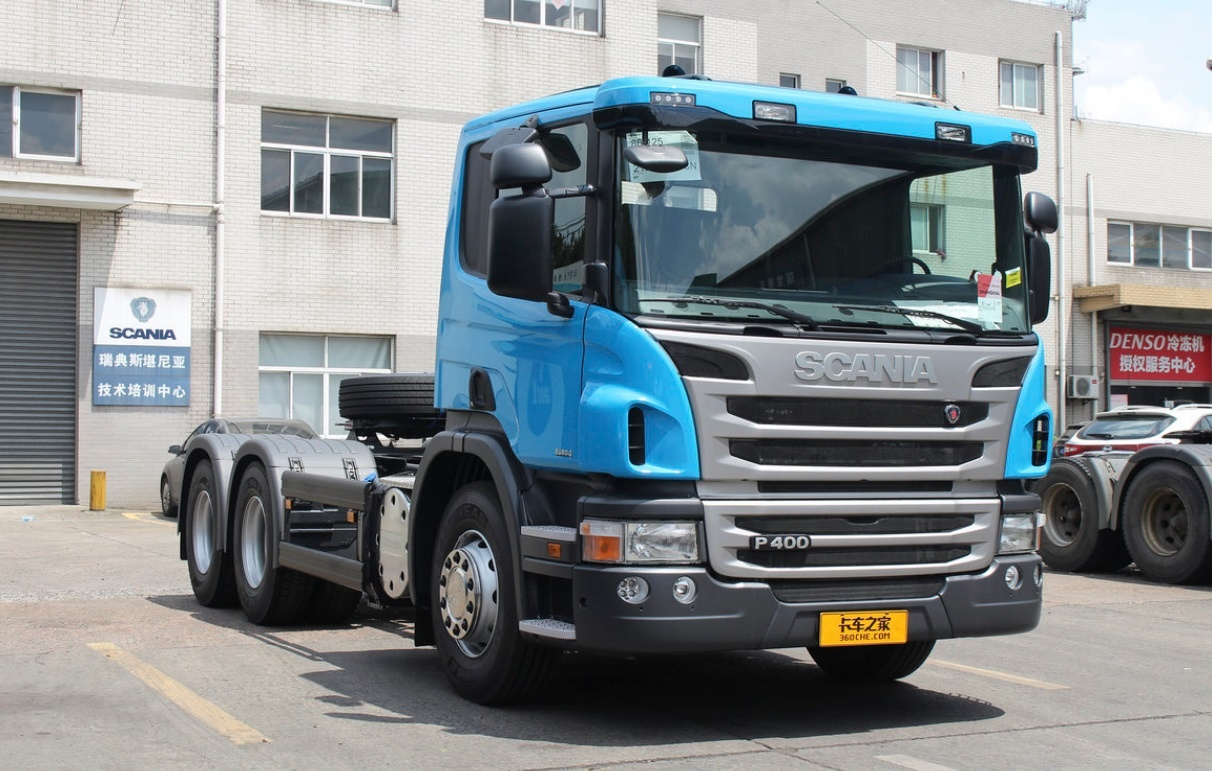heavy truck: (155, 61, 1060, 700)
